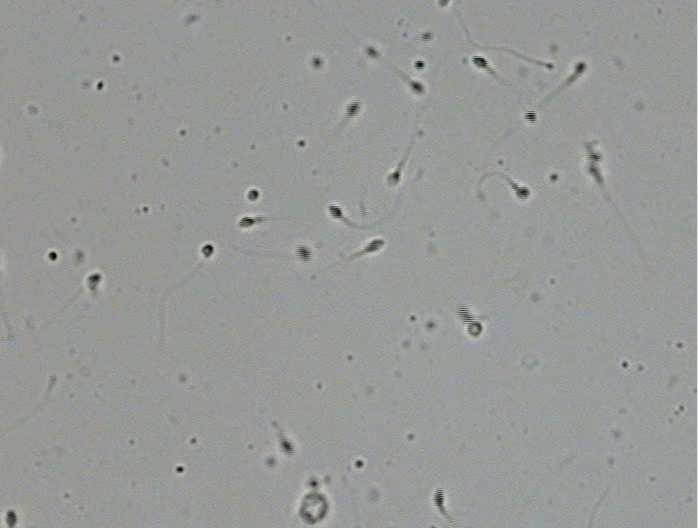Impurity: (298, 478, 328, 525)
S: (456, 304, 473, 324), (511, 183, 530, 199), (587, 165, 604, 182), (296, 245, 312, 261), (87, 273, 101, 291), (432, 487, 444, 508), (365, 239, 384, 252), (471, 55, 488, 69), (4, 510, 17, 528), (238, 216, 257, 228), (328, 204, 343, 219), (280, 438, 294, 454), (468, 321, 482, 337), (346, 101, 360, 117), (387, 171, 400, 186), (585, 151, 601, 163), (524, 109, 537, 123), (410, 81, 424, 94), (574, 61, 587, 75), (201, 244, 214, 257), (247, 189, 259, 201), (366, 47, 379, 58), (421, 32, 432, 42), (414, 60, 424, 70), (313, 58, 321, 68), (438, 1, 449, 7)
